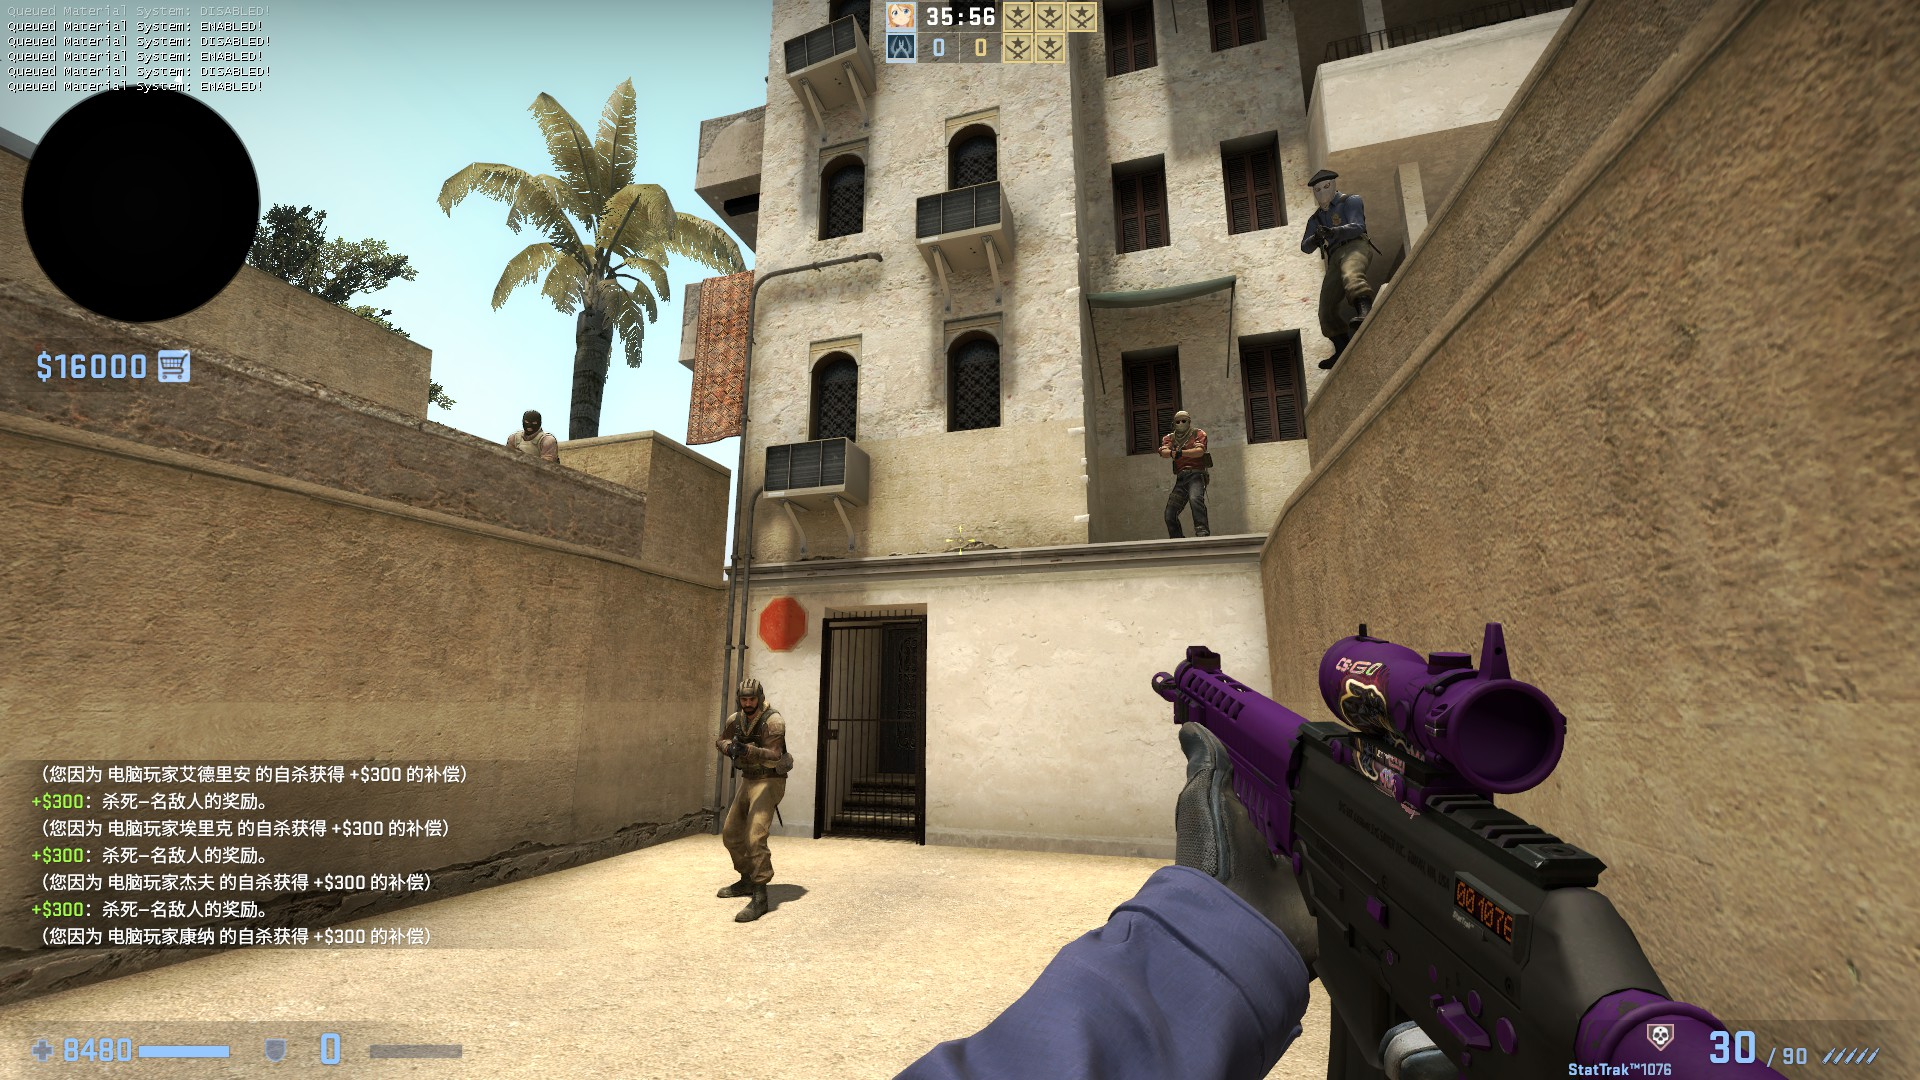head: (1303, 168, 1339, 207), (735, 676, 762, 713), (521, 408, 540, 435), (1170, 409, 1191, 433)
